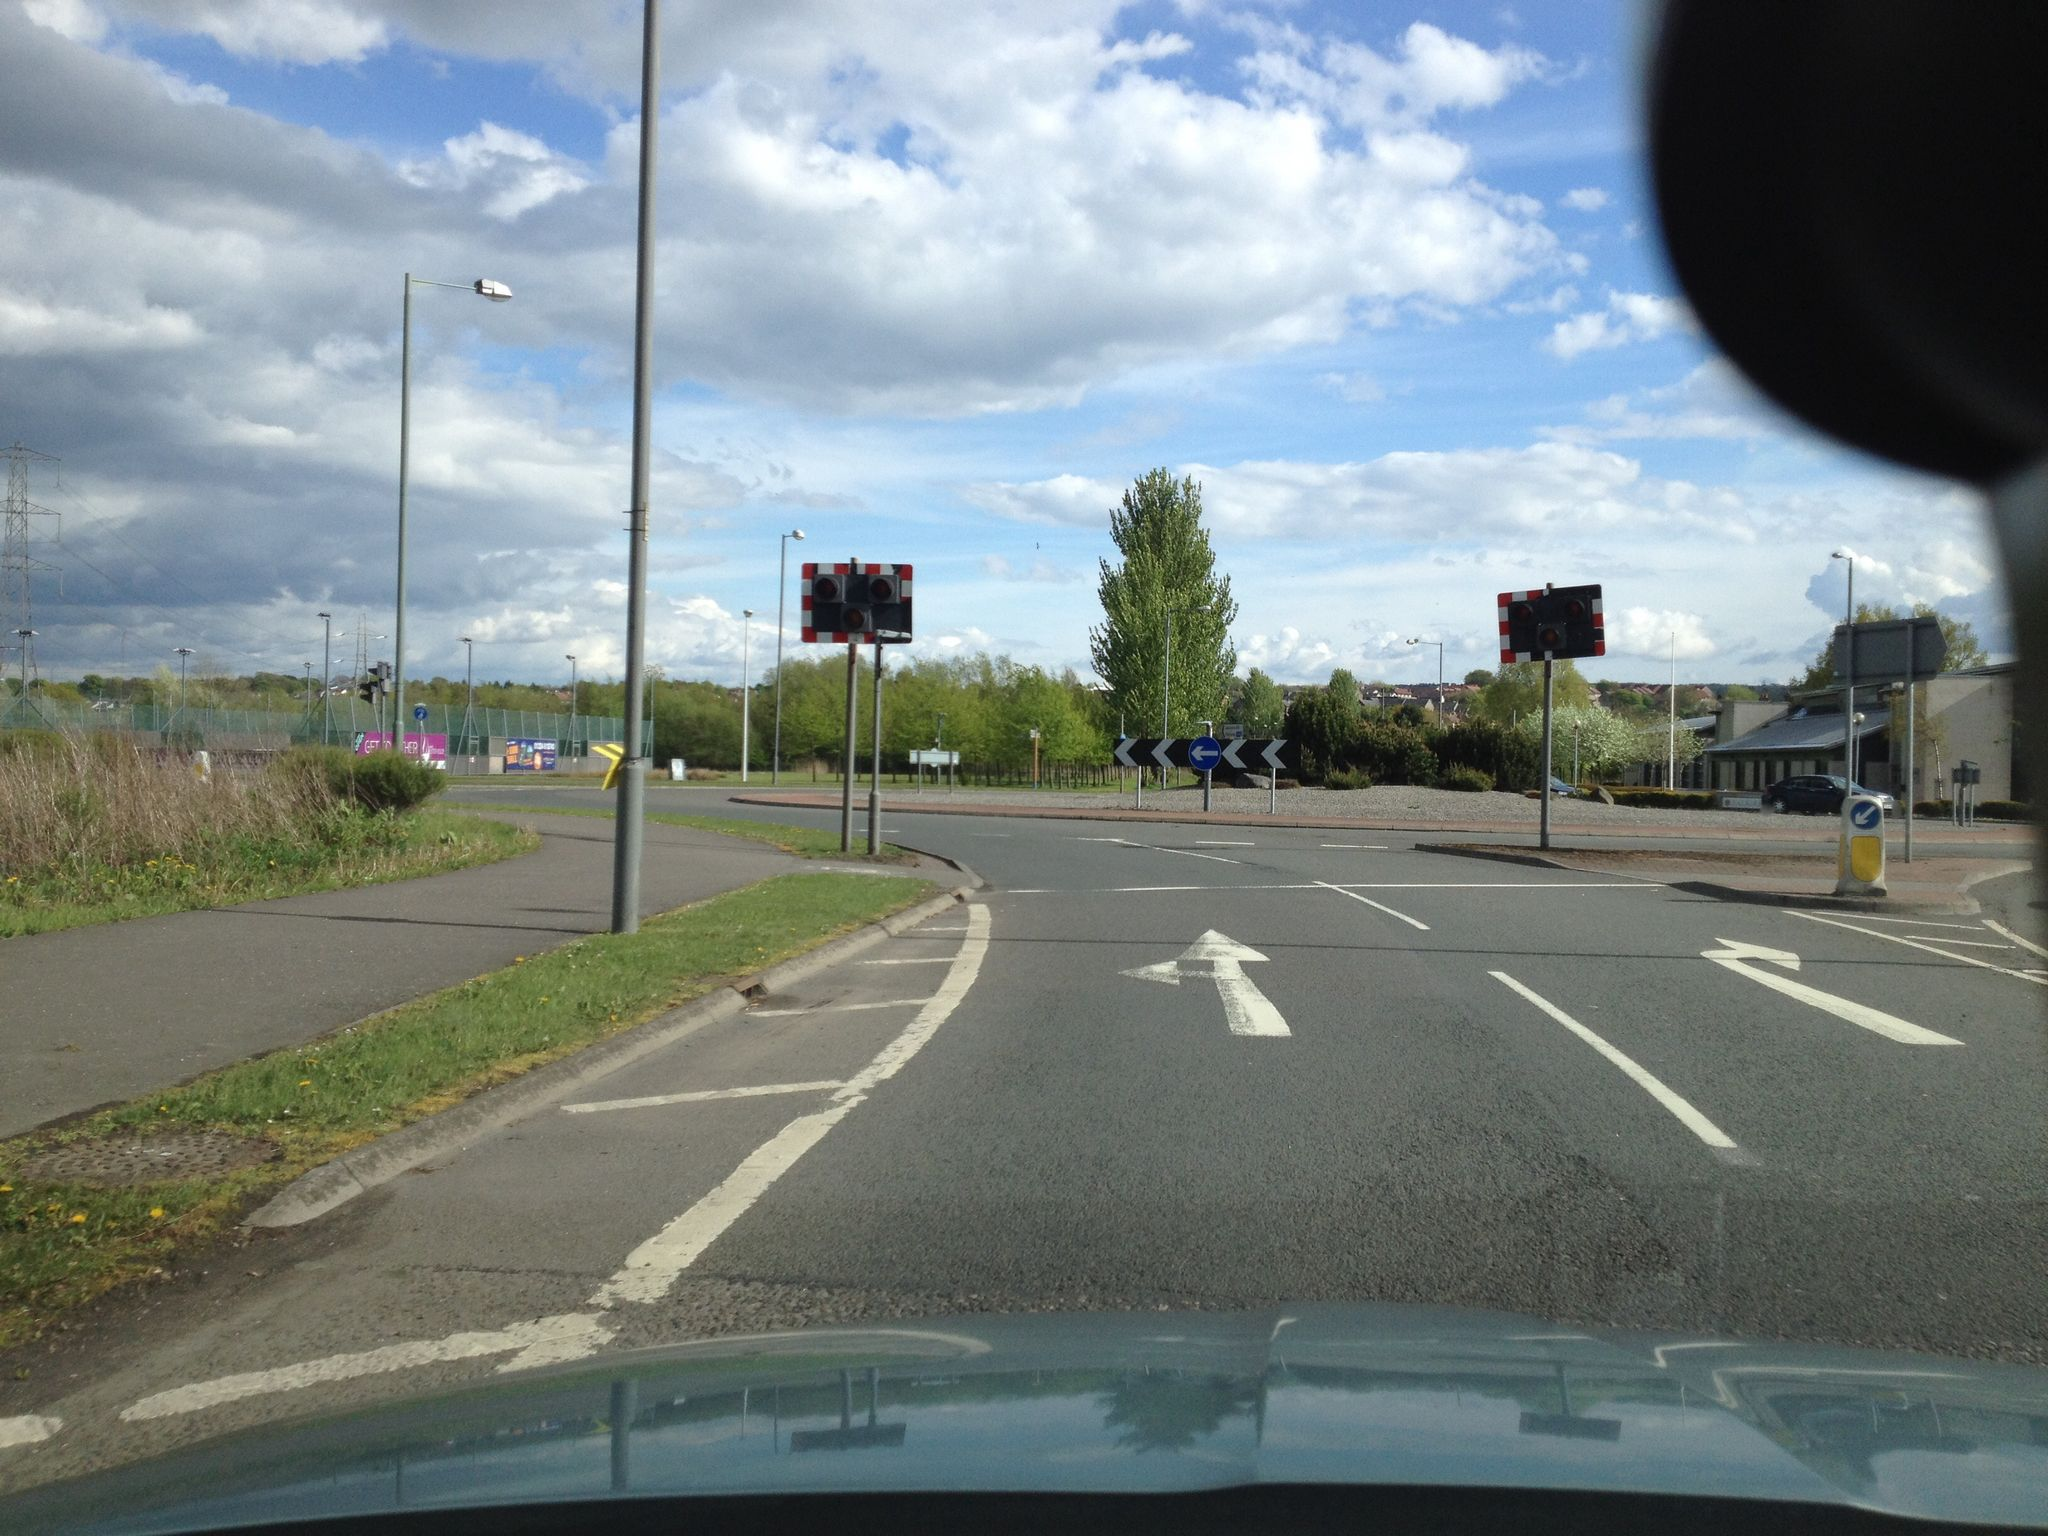car: (1759, 774, 1895, 818)
